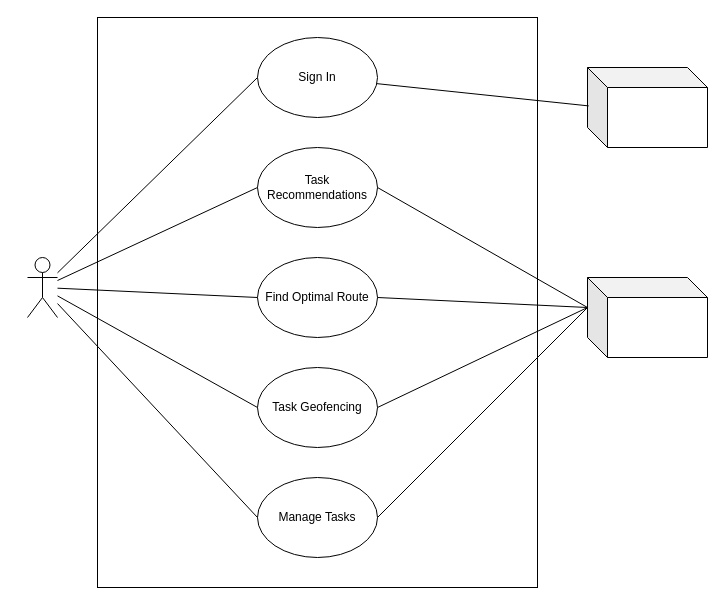
Image size: 725x605. Some labels were removed from this diagram. The shapes that lost their labels are listed below. From the top down, each one's box as (x1, y1, x2, y2) in pixels, then its label:
(586, 66, 708, 148): Google Authentication API
(26, 256, 58, 318): End User
(586, 276, 708, 358): Google Maps API
